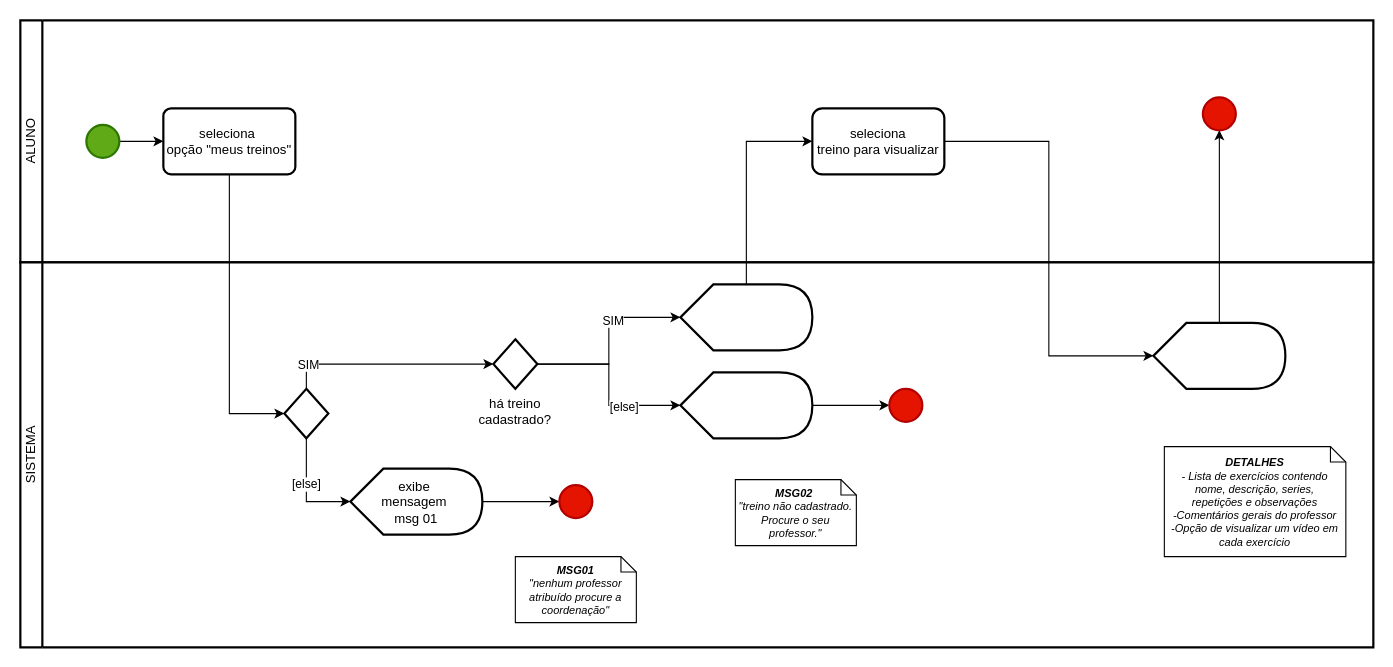
Image size: 1393x667. Some labels were removed from this diagram. The centre of each missing label's shape, as x and y in pixels:
"exibe detalhes do treino selecionado" goes at point 1219,355.
"exibe lista de treinos" goes at point 746,317.
"exibe mensagem msg 02" goes at point 746,405.
"há professor atribuido?" goes at point 306,413.
